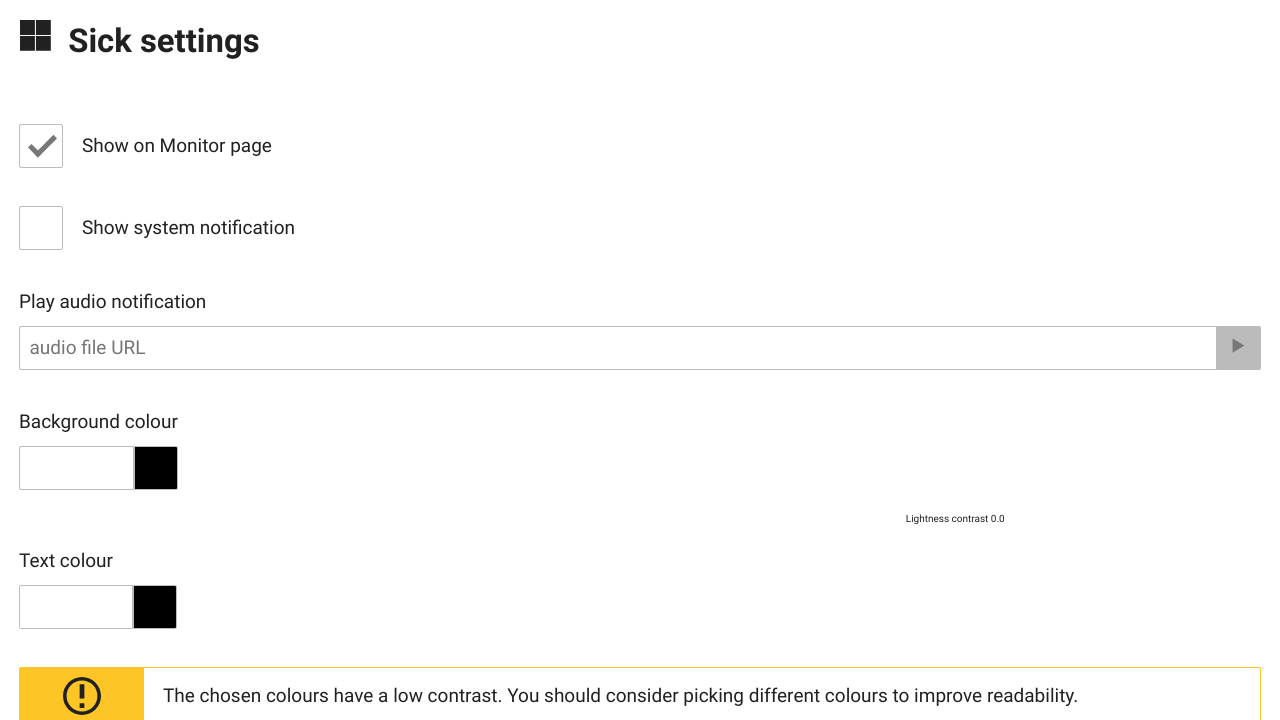
it: warnings › audio notifications have not been allowed
The width and height of the screenshot is (1280, 720).
Type "some-sfx" into the field labelled "Play audio notification" at [618, 348], box [19,326,1217,370]
(page scrolled)
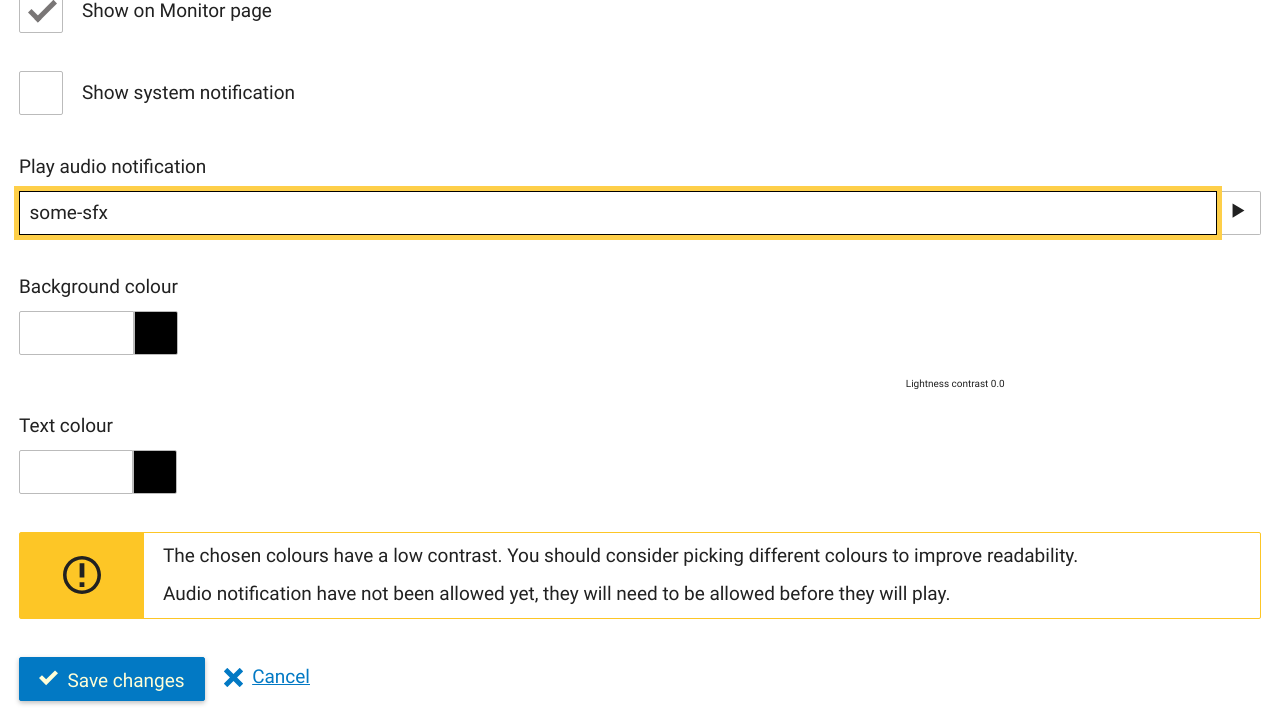
Expected: the list item "Audio notification have not been allowed yet, they will need to be allowed before they will play." is shown, [163,582,950,605]
